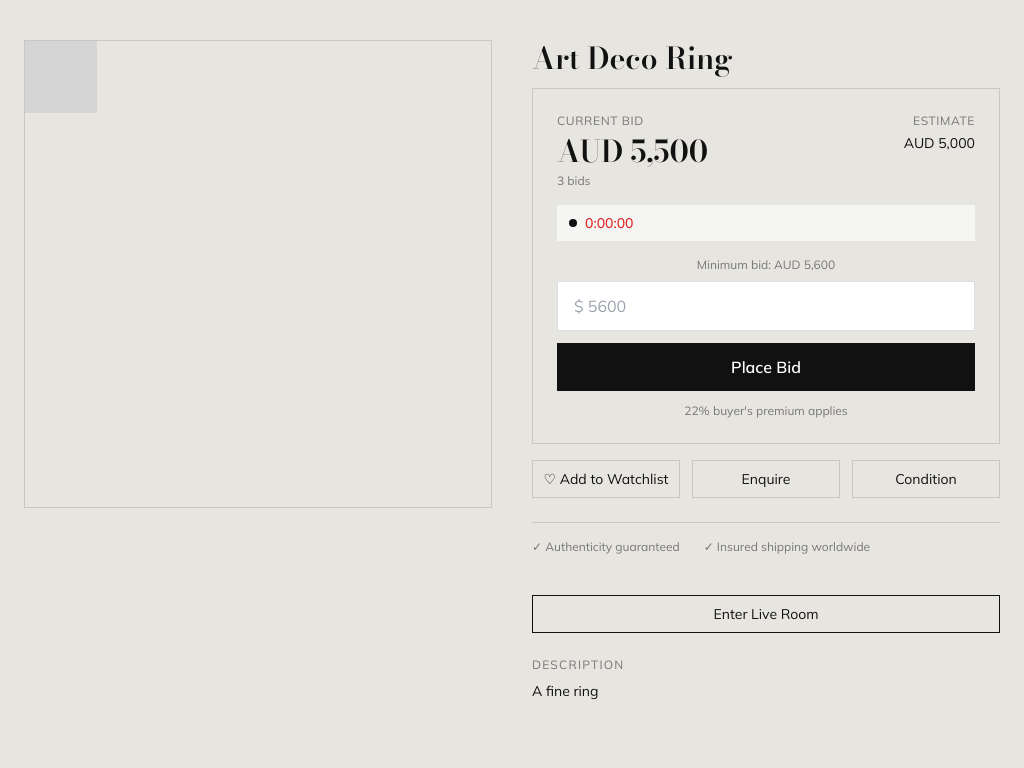
Test: LotDetailClient › shows a distinct, honest error when the payment-profile fetch fails with a non-ok response
The width and height of the screenshot is (1024, 768).
In the number field with placeholder "$ 5600": (766, 306) 557,281 -> 975,331, type "6000"
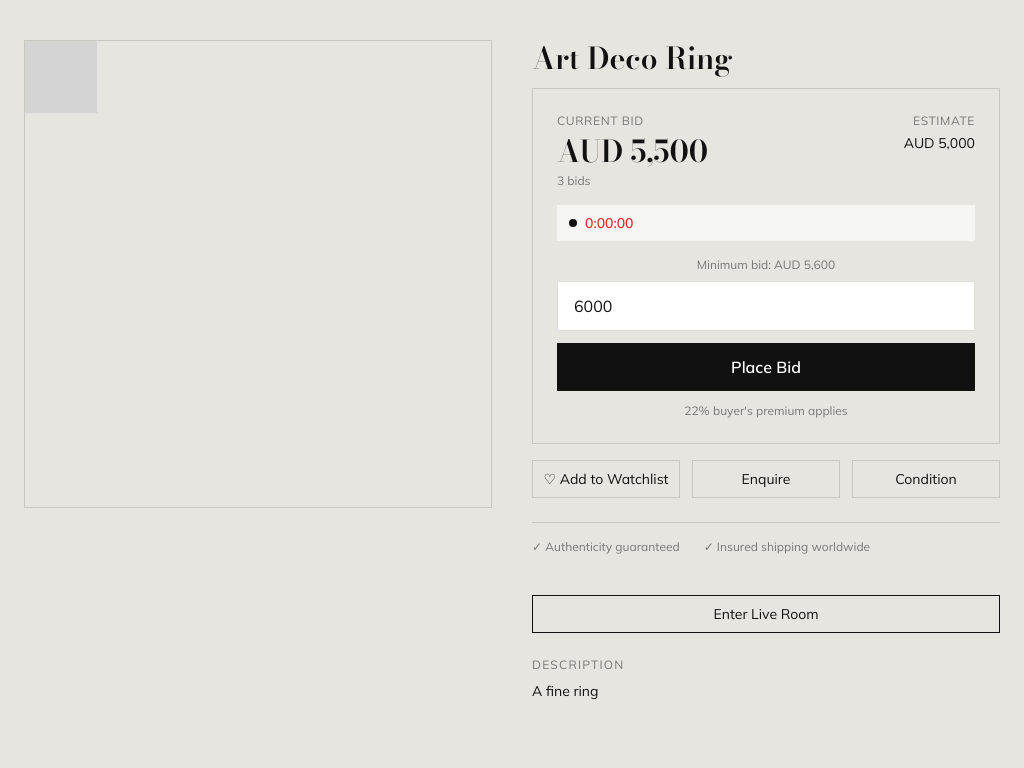
Click the button "Place Bid": (766, 367) 557,343 -> 975,391
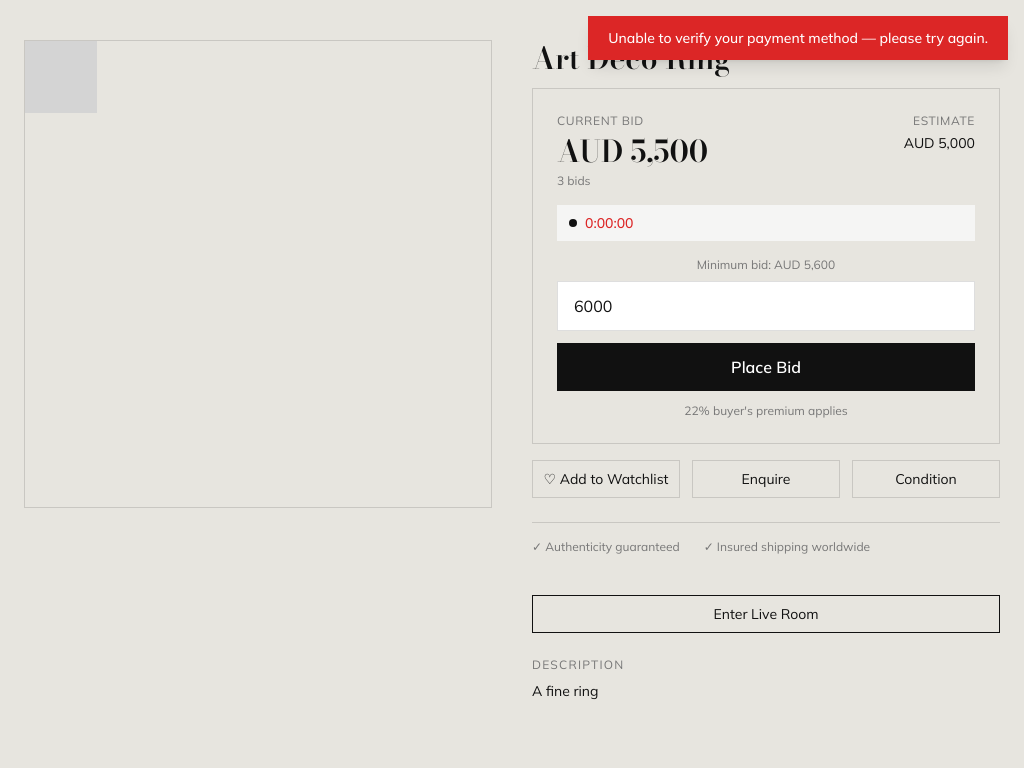
expect the text "Unable to verify your payment method — please try again." is shown: met, box 588,16 -> 1008,60
